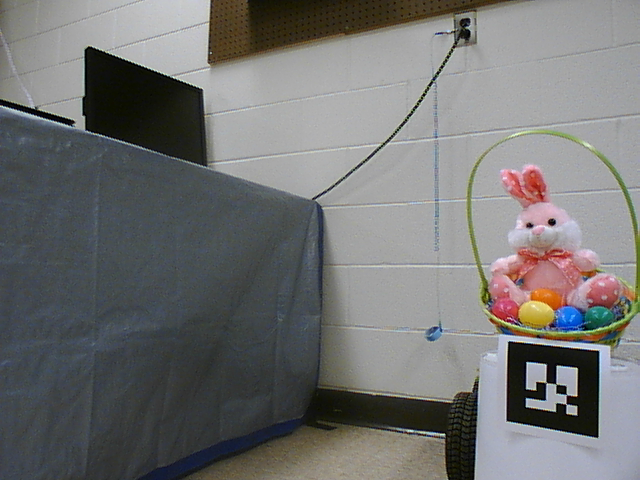bunny: (458, 129, 640, 346)
